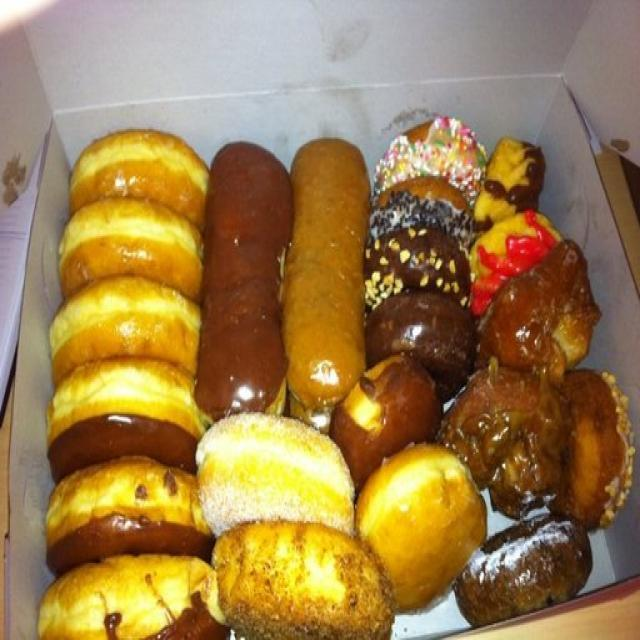Donuts: (45, 123, 640, 639)
